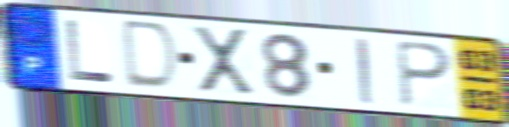8: (259, 31, 314, 100)
D: (122, 17, 183, 94)
I: (353, 36, 378, 107)
L: (63, 18, 116, 87)
P: (393, 39, 455, 109)
X: (188, 24, 258, 97)
